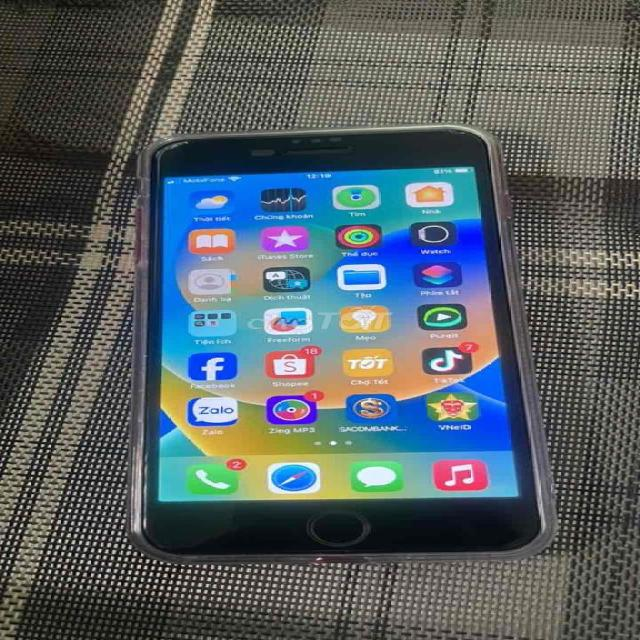gen_7_8: (130, 124, 553, 562)
physical_damage: (408, 125, 499, 150), (130, 131, 196, 161)
